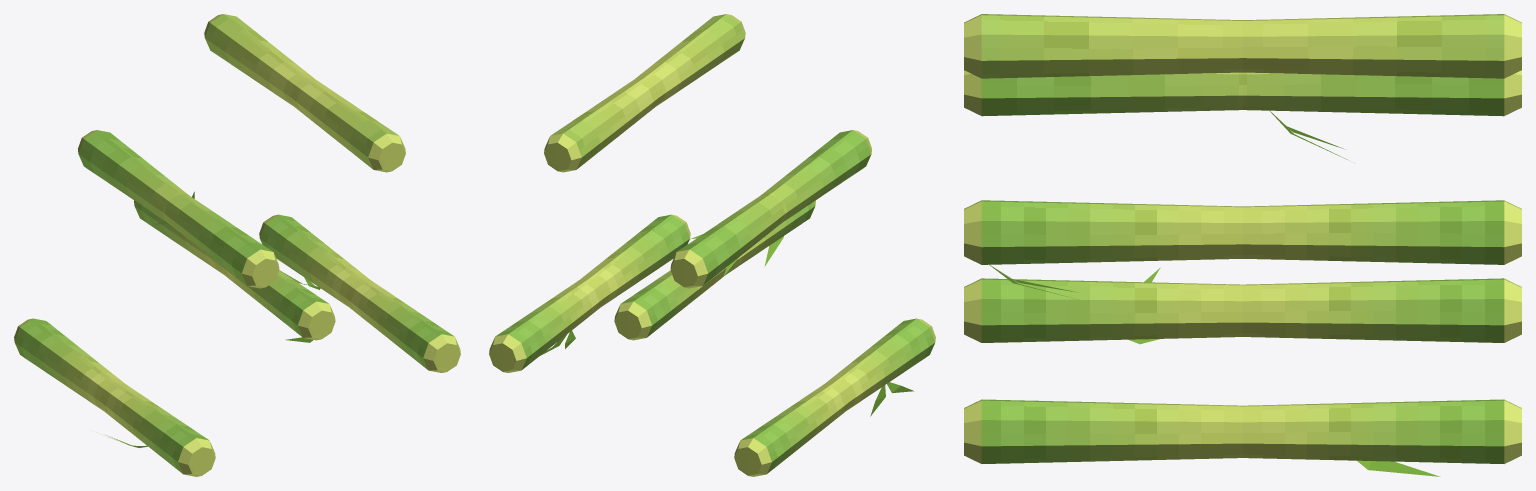
File: bamboo.glb
The picture shows the model from 3 angles, left to right: view 1: azimuth 30°, elevation 25°; view 2: azimuth 150°, elevation 25°; view 3: azimuth 270°, elevation 25°; orthographic projection. The views are drawn at different scales.
Visible parts, largest first — view 1: bamboo; view 2: bamboo; view 3: bamboo.
Part boxes in pixels (x1,y1,x2,y2): bamboo: (14, 14, 460, 476); bamboo: (489, 14, 935, 476); bamboo: (964, 14, 1521, 476).
Bounding box in the file's own units: 1.05 × 0.9576 × 1.
1 material, 1 textured.
